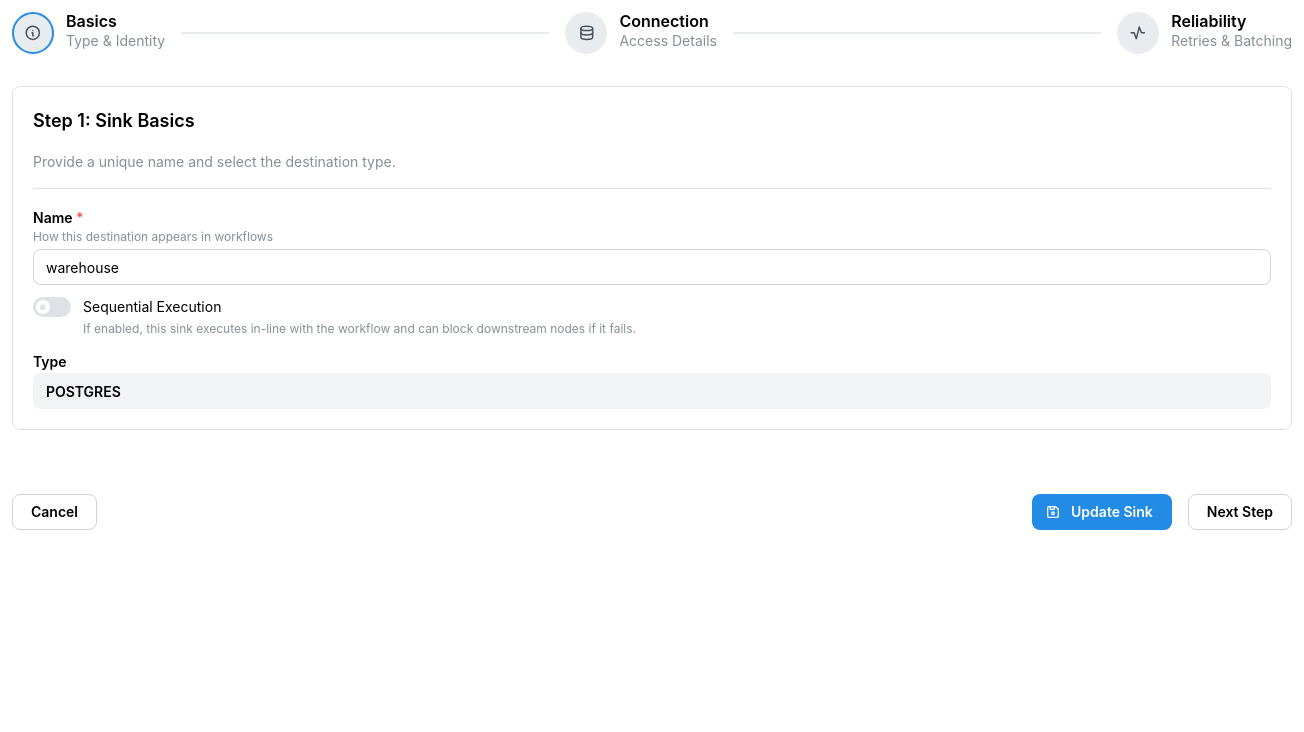
sink table discovery › still lists the tables when another field is edited while they load
The image size is (1304, 732).
Type "s" into the field with placeholder "NATS Sink" at coordinates (652, 267), box [33,249,1271,285]
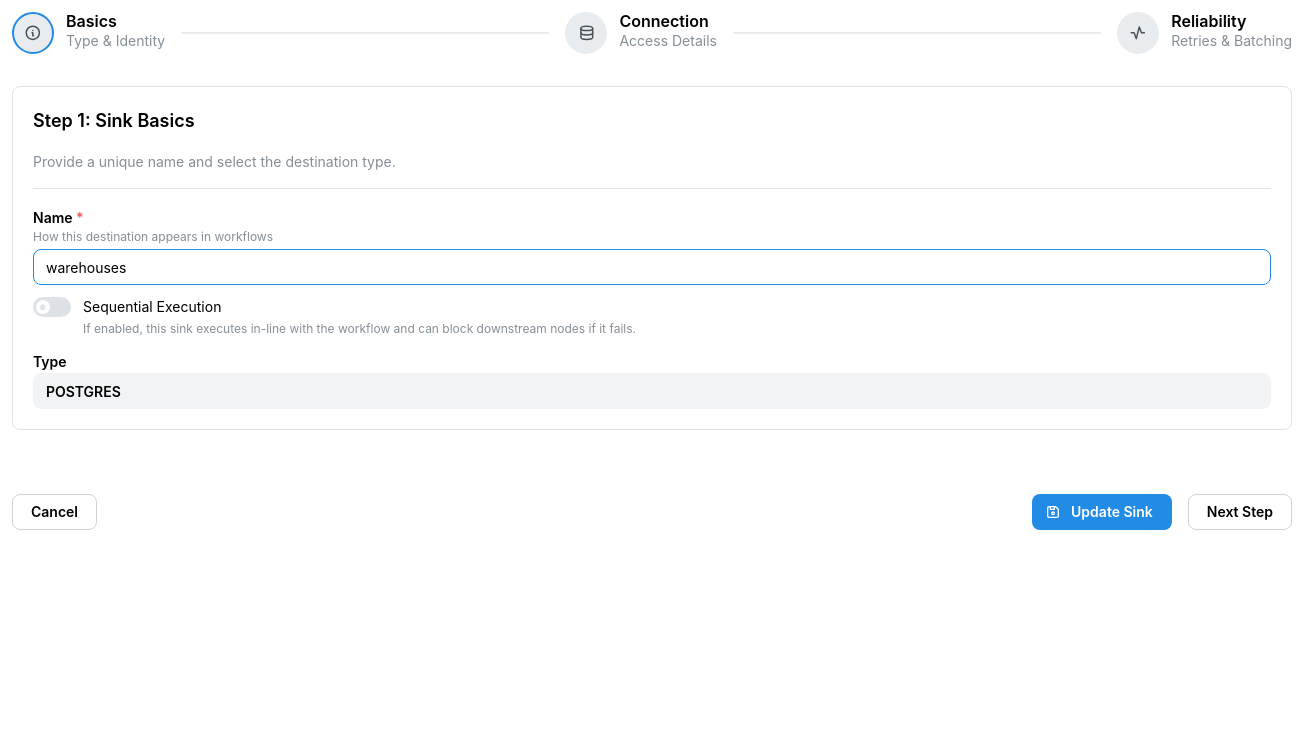
Click the button "Next Step" at coordinates (1240, 512), box [1188,494,1292,530]
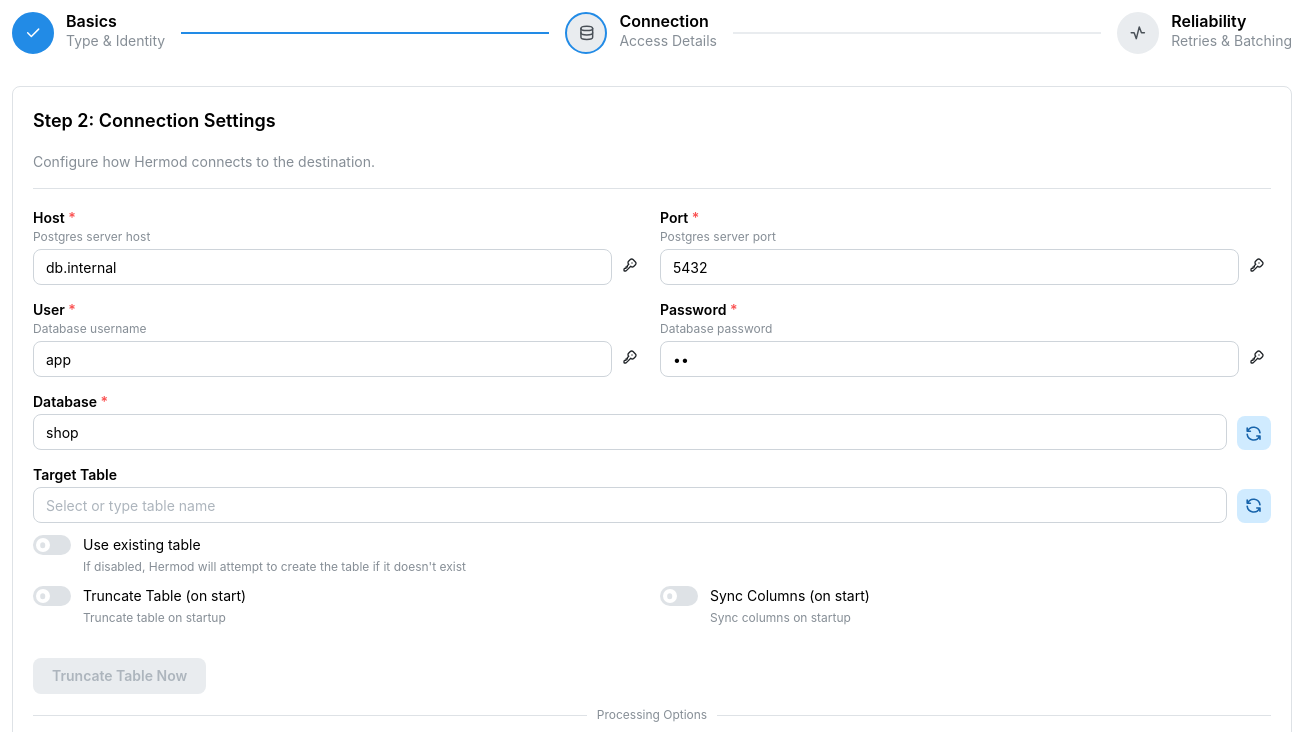
Click the dropdown with placeholder "Select or type table name" at coordinates (630, 505), box [33,487,1227,523]
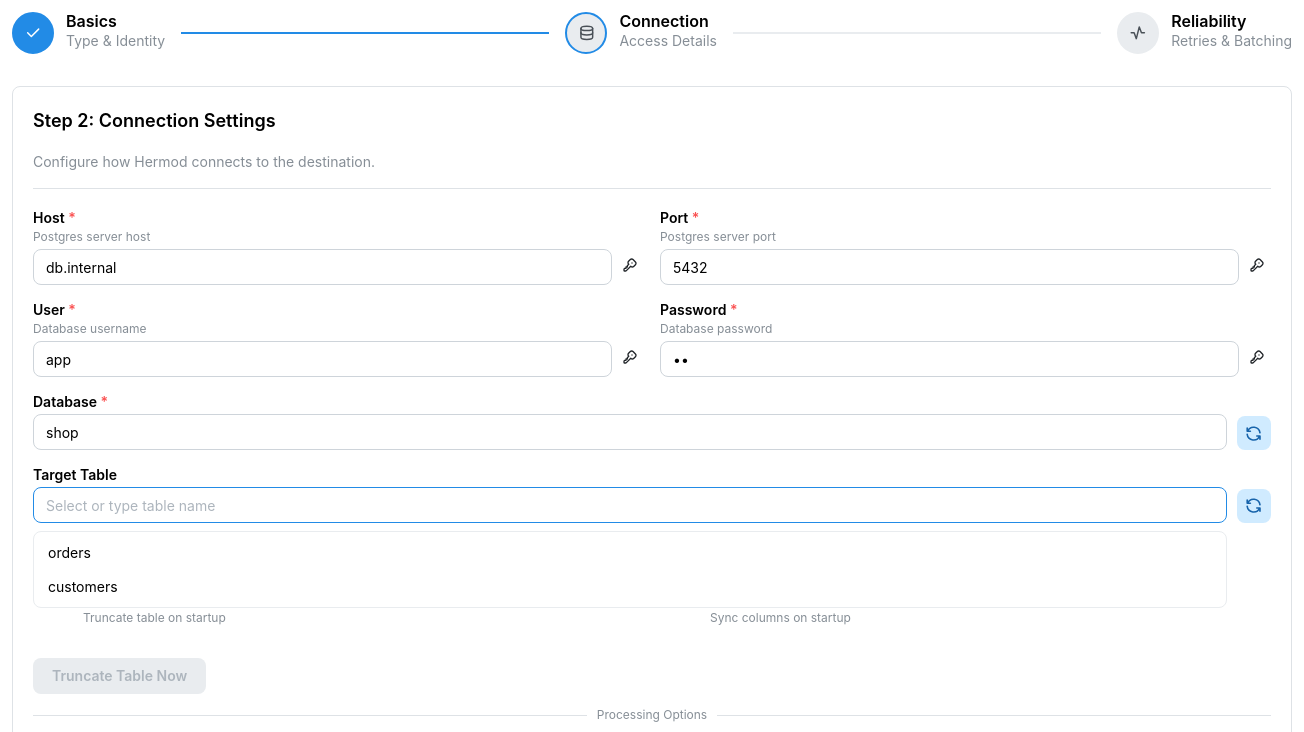
Expected: the text "orders" is shown, [48,542,91,564]
